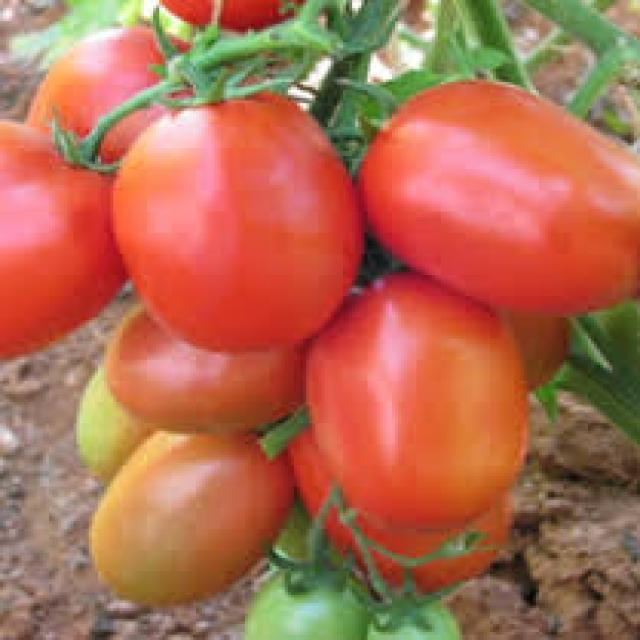Fresh_tomato: (357, 64, 640, 323), (140, 53, 367, 355), (342, 290, 519, 539), (0, 61, 136, 367), (98, 318, 333, 463), (85, 472, 288, 603)
